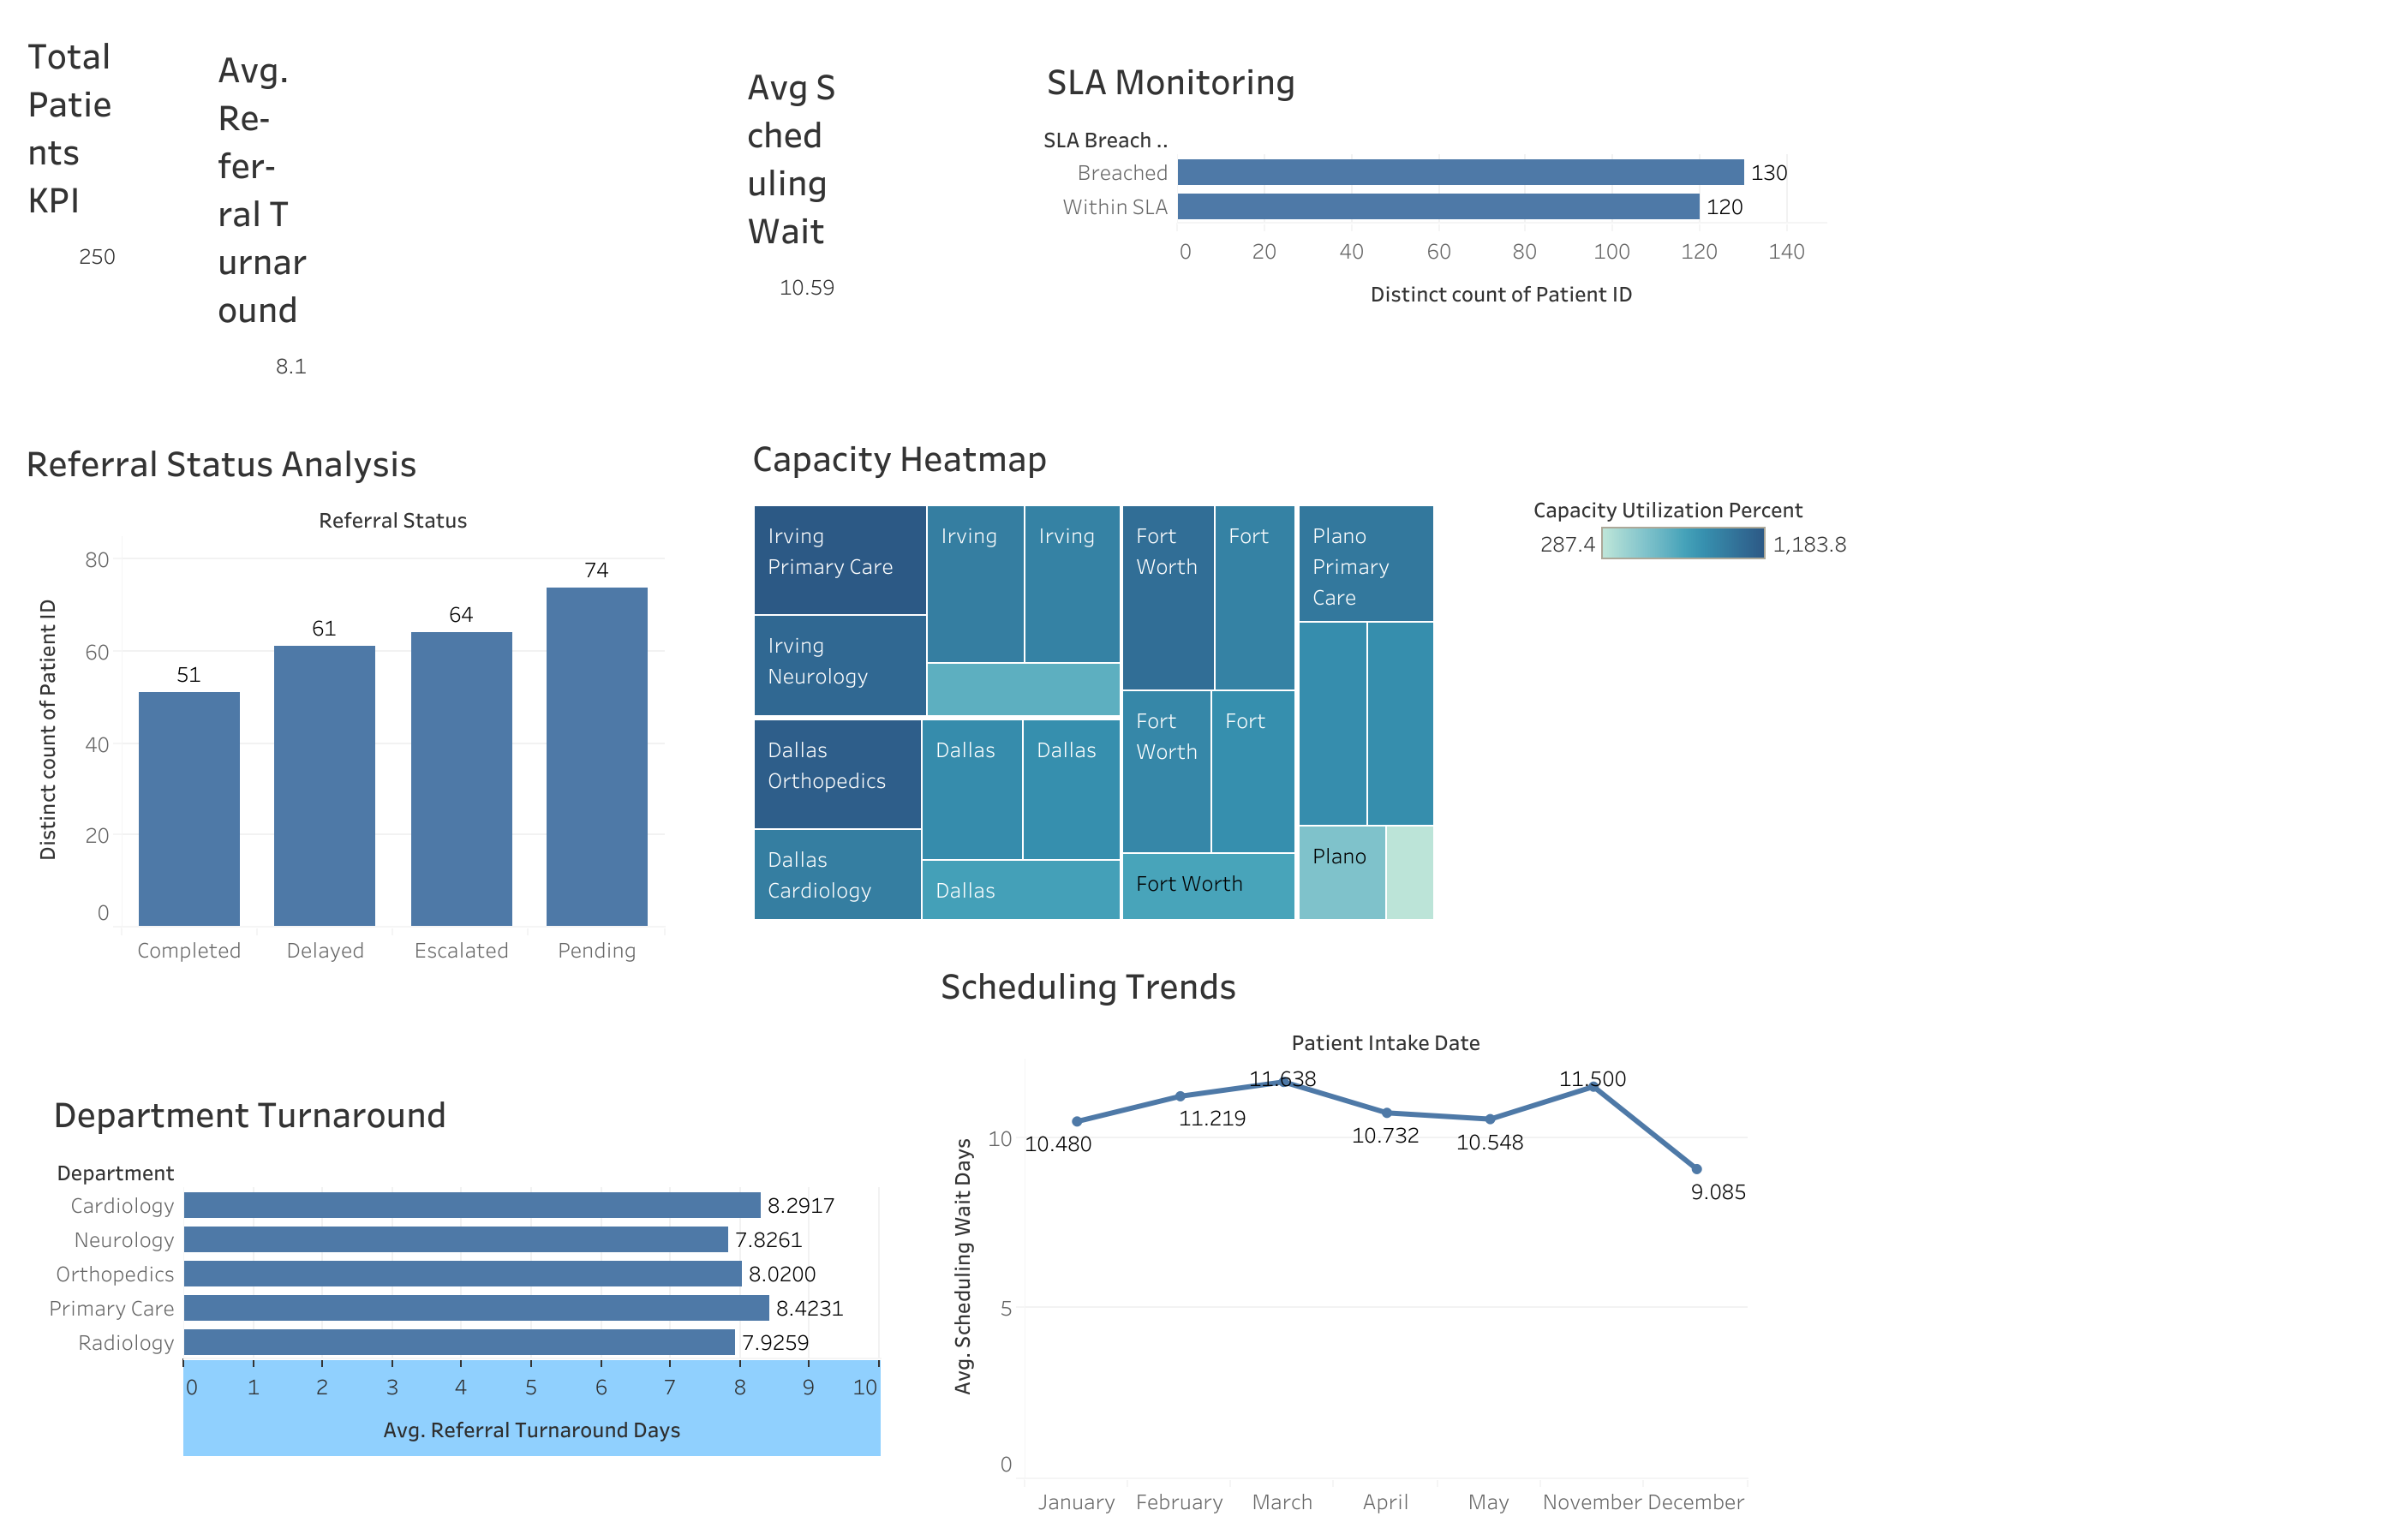

The dashboard page shown, as its layout file describes it:
{"tool":"tableau","page":{"name":"Healthcare Operations Dashboard","canvas":[1400,900],"ordinal":0},"visuals":[{"type":"worksheet","title":"Executive KPIs","mark":"Automatic","box":[8,8,1384,884]},{"type":"worksheet","title":"Referral KPI","mark":"Automatic","box":[123,20,423,223]},{"type":"worksheet","title":"SLA Monitoring","mark":"Automatic","rows":["Calculation_0014300256411657"],"cols":["Patient_ID"],"box":[607,27,459,182]},{"type":"worksheet","title":"Scheduling KPI","mark":"Automatic","box":[432,30,377,182]},{"type":"worksheet","title":"Capacity Heatmap","mark":"Automatic","box":[435,247,527,296]},{"type":"worksheet","title":"Referral Status Analysis","mark":"Automatic","rows":["Patient_ID"],"cols":["Referral_Status"],"box":[11,250,377,313]},{"type":"legend","title":"Capacity Heatmap","param":"[federated.00wl9870z64cqk151csdh0seez7m].[sum:Capacity_Utilization_Percent:qk]","box":[895,284,188,83]},{"type":"legend","title":"Capacity Heatmap","param":"[federated.00wl9870z64cqk151csdh0seez7m].[sum:Capacity_Utilization_Percent:qk]","box":[662,312,160,182]},{"type":"worksheet","title":"Scheduling Trends","mark":"Automatic","rows":["Scheduling_Wait_Days"],"cols":["Patient_Intake_Date"],"box":[545,555,475,330]},{"type":"worksheet","title":"Department Turnaround","mark":"Automatic","rows":["Department"],"cols":["Referral_Turnaround_Days"],"box":[27,630,487,253]}]}

Visuals, with their boxes in screenshot pixels (x1, y1, x2, y2), scaled from the page's 1400x900 canvas onto the 2397x1540 screenshot:
"Executive KPIs" worksheet: bbox=(14, 14, 2383, 1526)
"Referral KPI" worksheet: bbox=(211, 34, 935, 415)
"SLA Monitoring" worksheet: bbox=(1039, 46, 1825, 358)
"Scheduling KPI" worksheet: bbox=(739, 51, 1385, 363)
"Capacity Heatmap" worksheet: bbox=(744, 422, 1647, 929)
"Referral Status Analysis" worksheet: bbox=(19, 427, 664, 964)
"Capacity Heatmap" legend: bbox=(1533, 486, 1854, 628)
"Capacity Heatmap" legend: bbox=(1133, 534, 1408, 845)
"Scheduling Trends" worksheet: bbox=(933, 950, 1747, 1514)
"Department Turnaround" worksheet: bbox=(46, 1078, 880, 1511)
